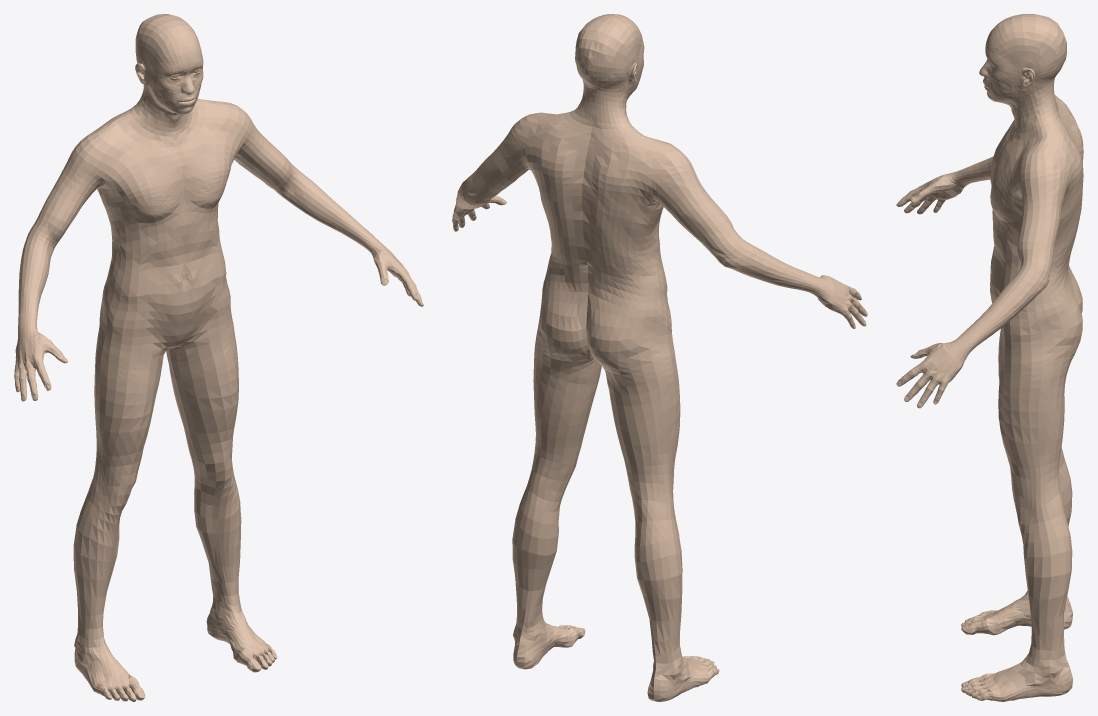
File: male-mature-average-high.glb
3 renders of one model, left to right at view 1: azimuth 30°, elevation 25°; view 2: azimuth 150°, elevation 25°; view 3: azimuth 270°, elevation 25°, orthographic.
Parts seen in each view (by area): view 1: world; view 2: world; view 3: world.
Part boxes in pixels (box(x1,y1,x2,y2)): world: box(14, 14, 423, 701); world: box(452, 14, 867, 701); world: box(896, 14, 1083, 701).
Bounding box in the file's own units: 1.26 × 1.94 × 0.5105.
